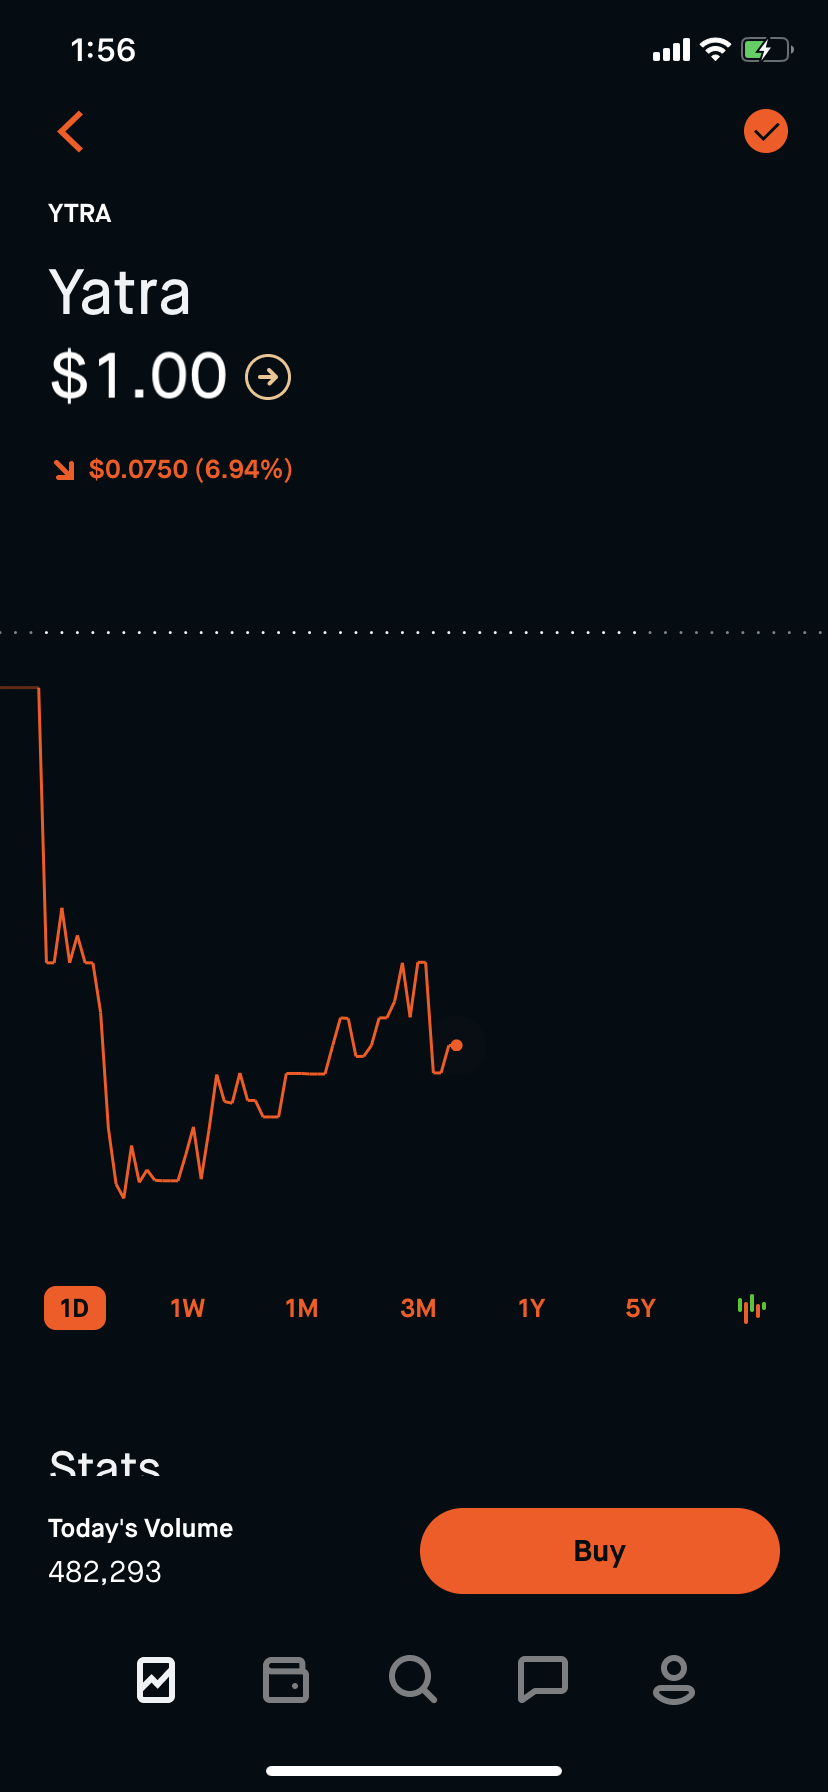Buttons: (406, 1499, 785, 1603), (712, 83, 806, 179), (25, 82, 119, 177)
